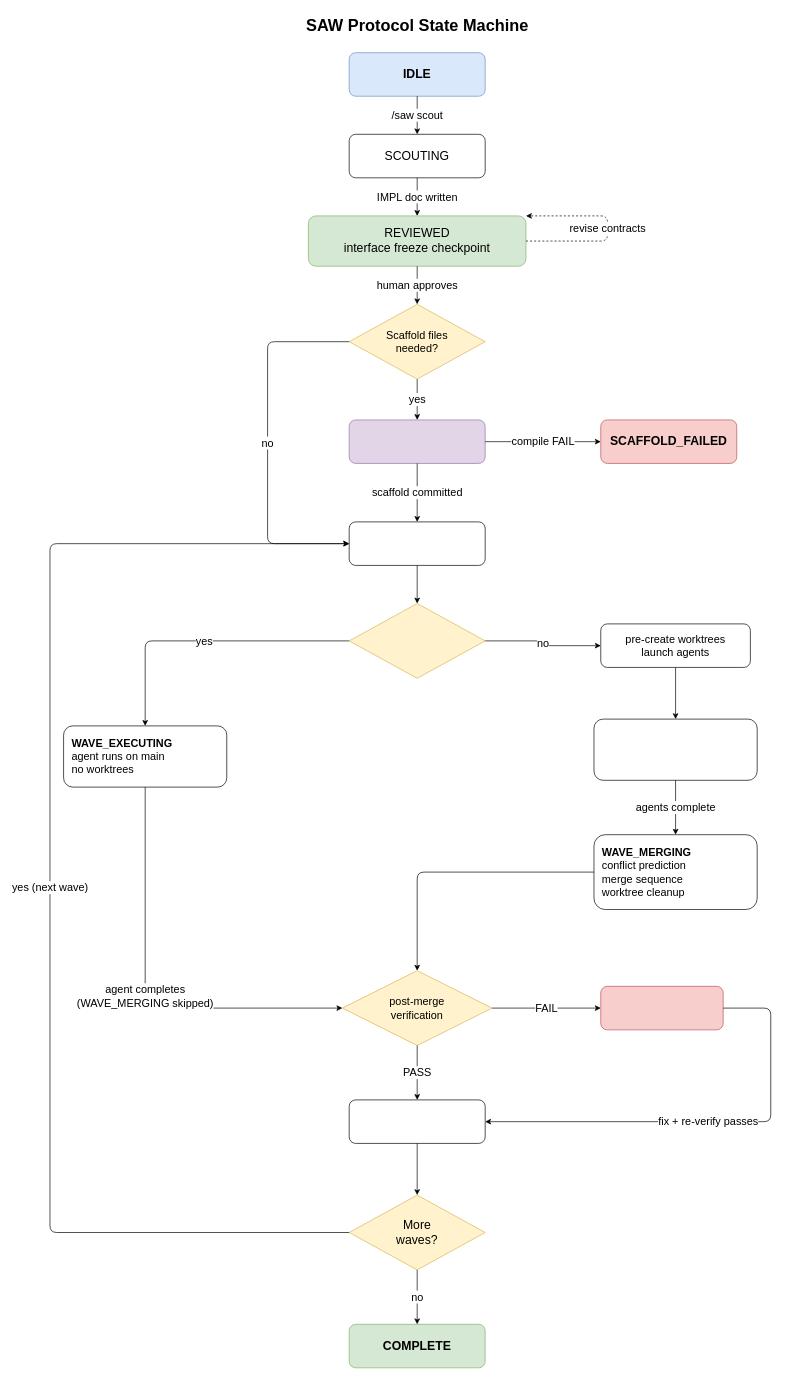
Some shapes in this 788 by 1380 pixel diagram are drawn without their labels. The box of each missing label's shape, as (x1, y1, x2, y2) in pixels:
BLOCKED: (600, 986, 723, 1030)
SCAFFOLDING: (348, 419, 485, 463)
Solo wave?: (348, 603, 485, 678)
WAVE_EXECUTING agents run in parallel in isolated worktrees: (593, 718, 757, 780)
WAVE_PENDING: (348, 521, 485, 565)
WAVE_VERIFIED: (348, 1099, 485, 1143)
